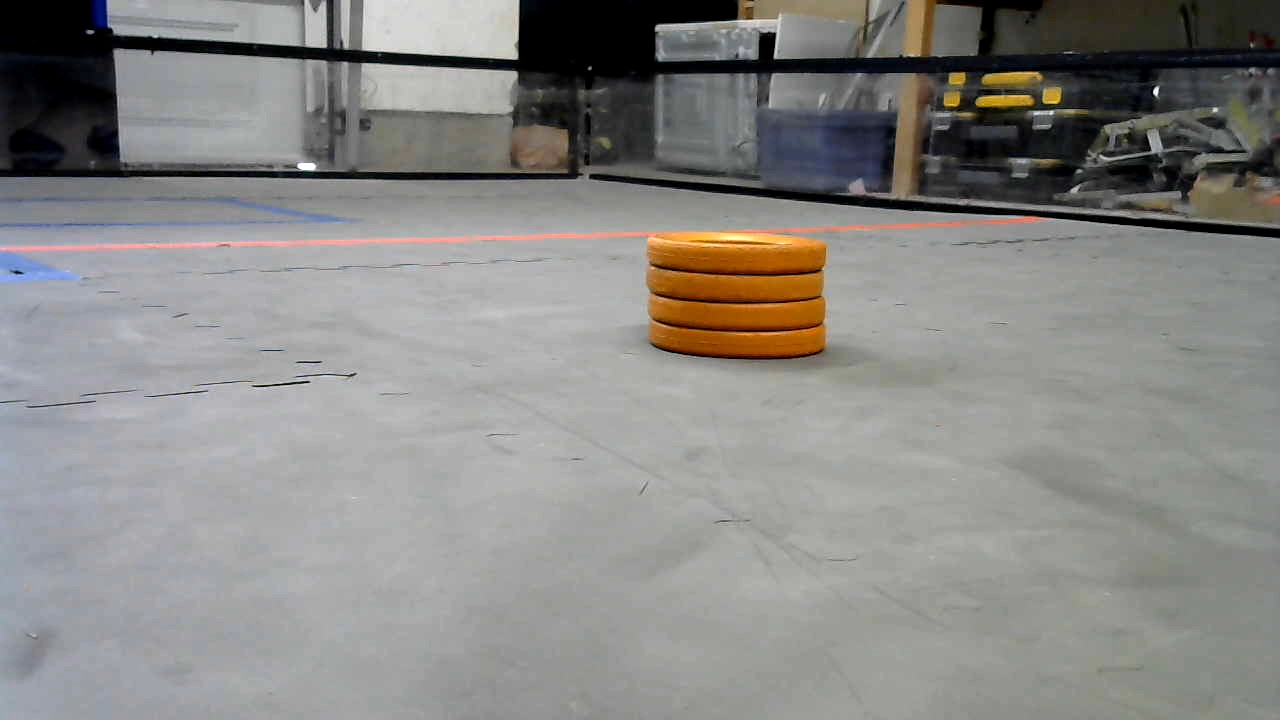FourStack: (645, 234, 829, 361)
